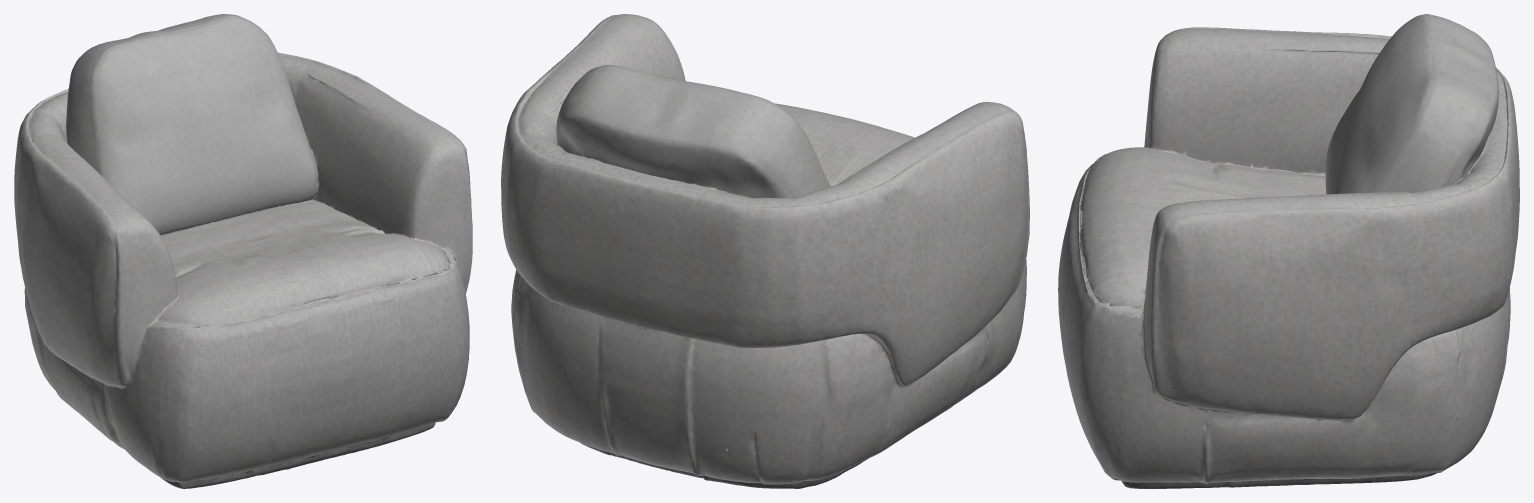
Rendered from contemporary_armchair_ynv7ou.glb.
3 views of the same model, side by side, from view 1: azimuth 30°, elevation 25°; view 2: azimuth 150°, elevation 25°; view 3: azimuth 270°, elevation 25° (orthographic). The views are drawn at different scales.
Parts seen in each view (by area): view 1: world; view 2: world; view 3: world.
Boxes of the visible parts, <box> form: world: <box>14,14,472,488</box>; world: <box>501,14,1029,488</box>; world: <box>1058,14,1519,488</box>.
Size of the model in its own units: 1 by 0.8446 by 0.9452.
Materials: 1 (1 with a texture image).
